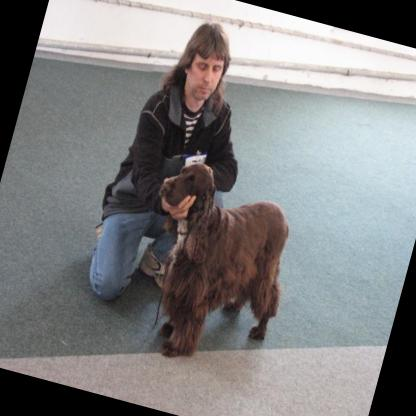Sussex_spaniel: (116, 151, 311, 382)
